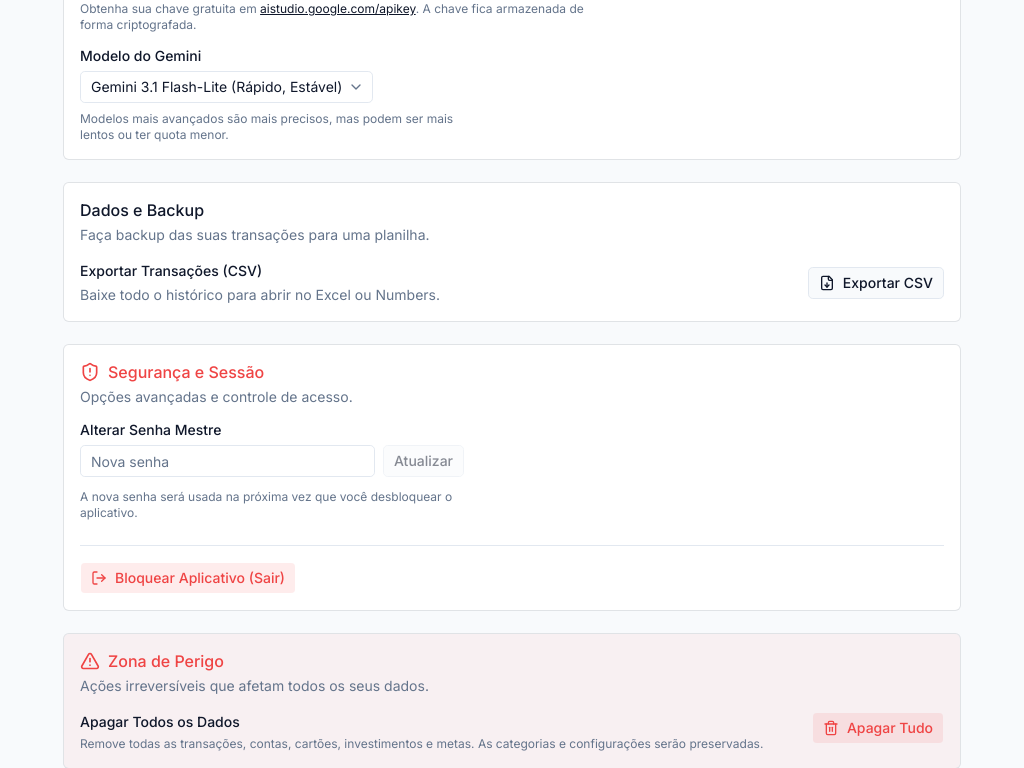
Test case: SettingsPage › opens confirmation dialog when valid password is submitted
(page scrolled)
Type "senha123" into the password field with placeholder "Nova senha".
click(228, 461); type("senha123")  # box top-left (80, 445), bottom-right (375, 477)
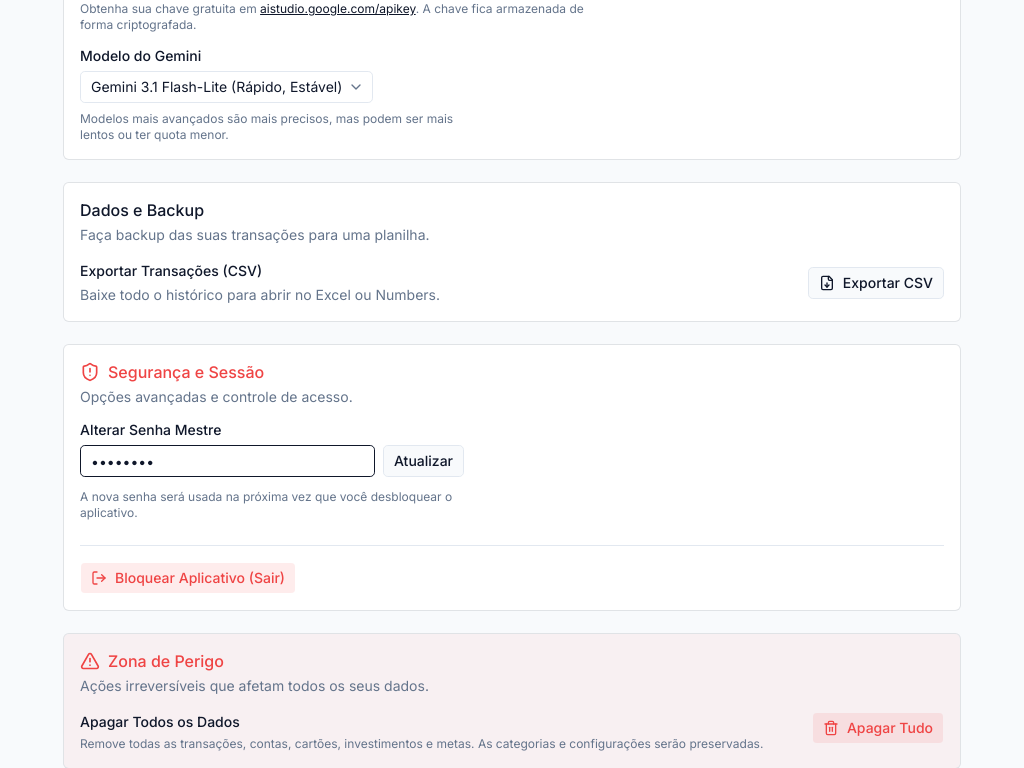
Click the button "Atualizar".
click(424, 461)  # box top-left (383, 445), bottom-right (464, 477)
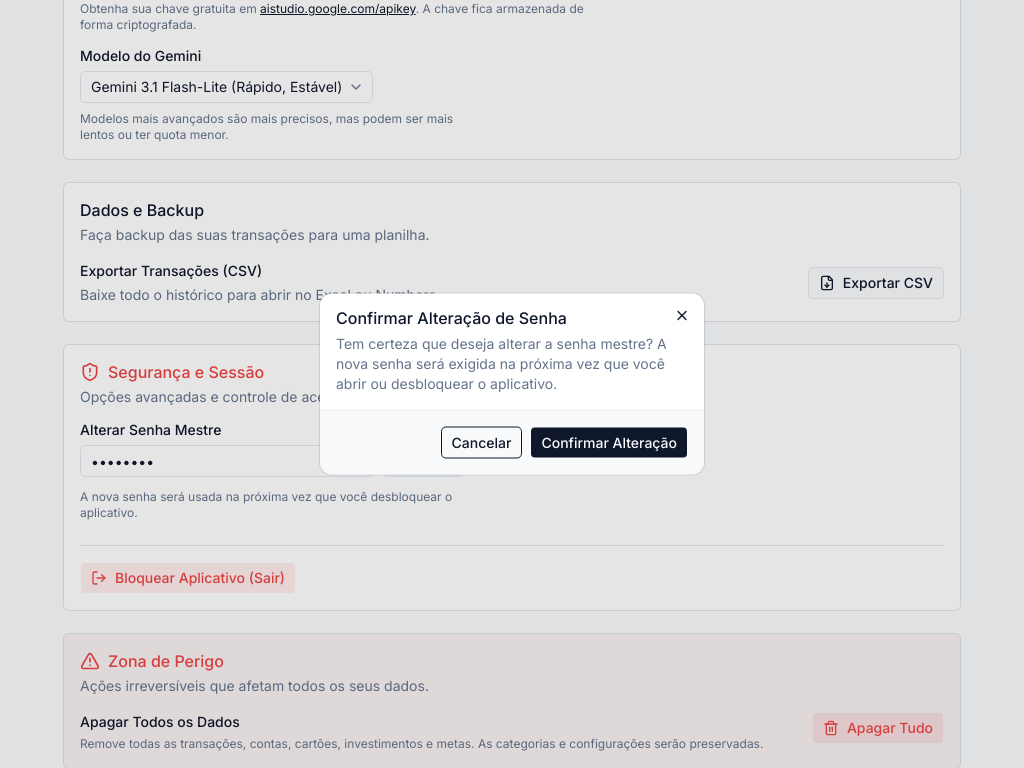
Check: the heading "Confirmar Alteração de Senha" is shown, box top-left (336, 308), bottom-right (567, 328)
Check: the text "Tem certeza que deseja alterar a senha mestre" is shown, box top-left (336, 334), bottom-right (667, 392)
